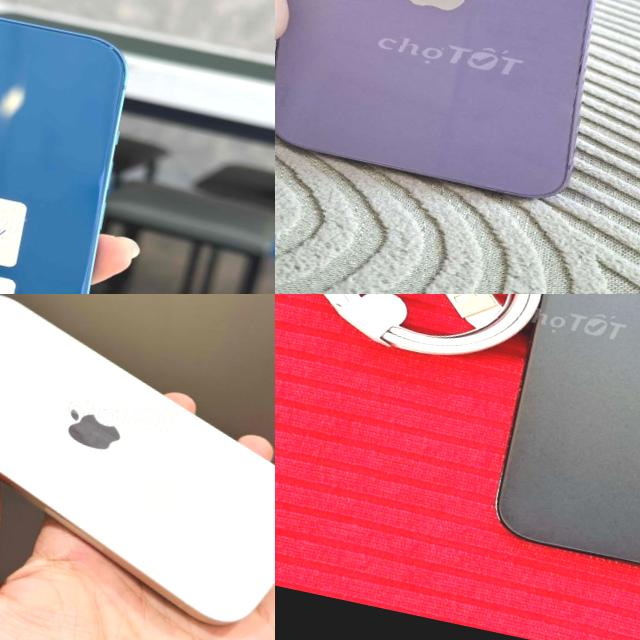gen_12_13: (275, 0, 640, 212), (480, 294, 640, 615), (0, 0, 166, 294)
gen_14: (0, 294, 275, 640)
